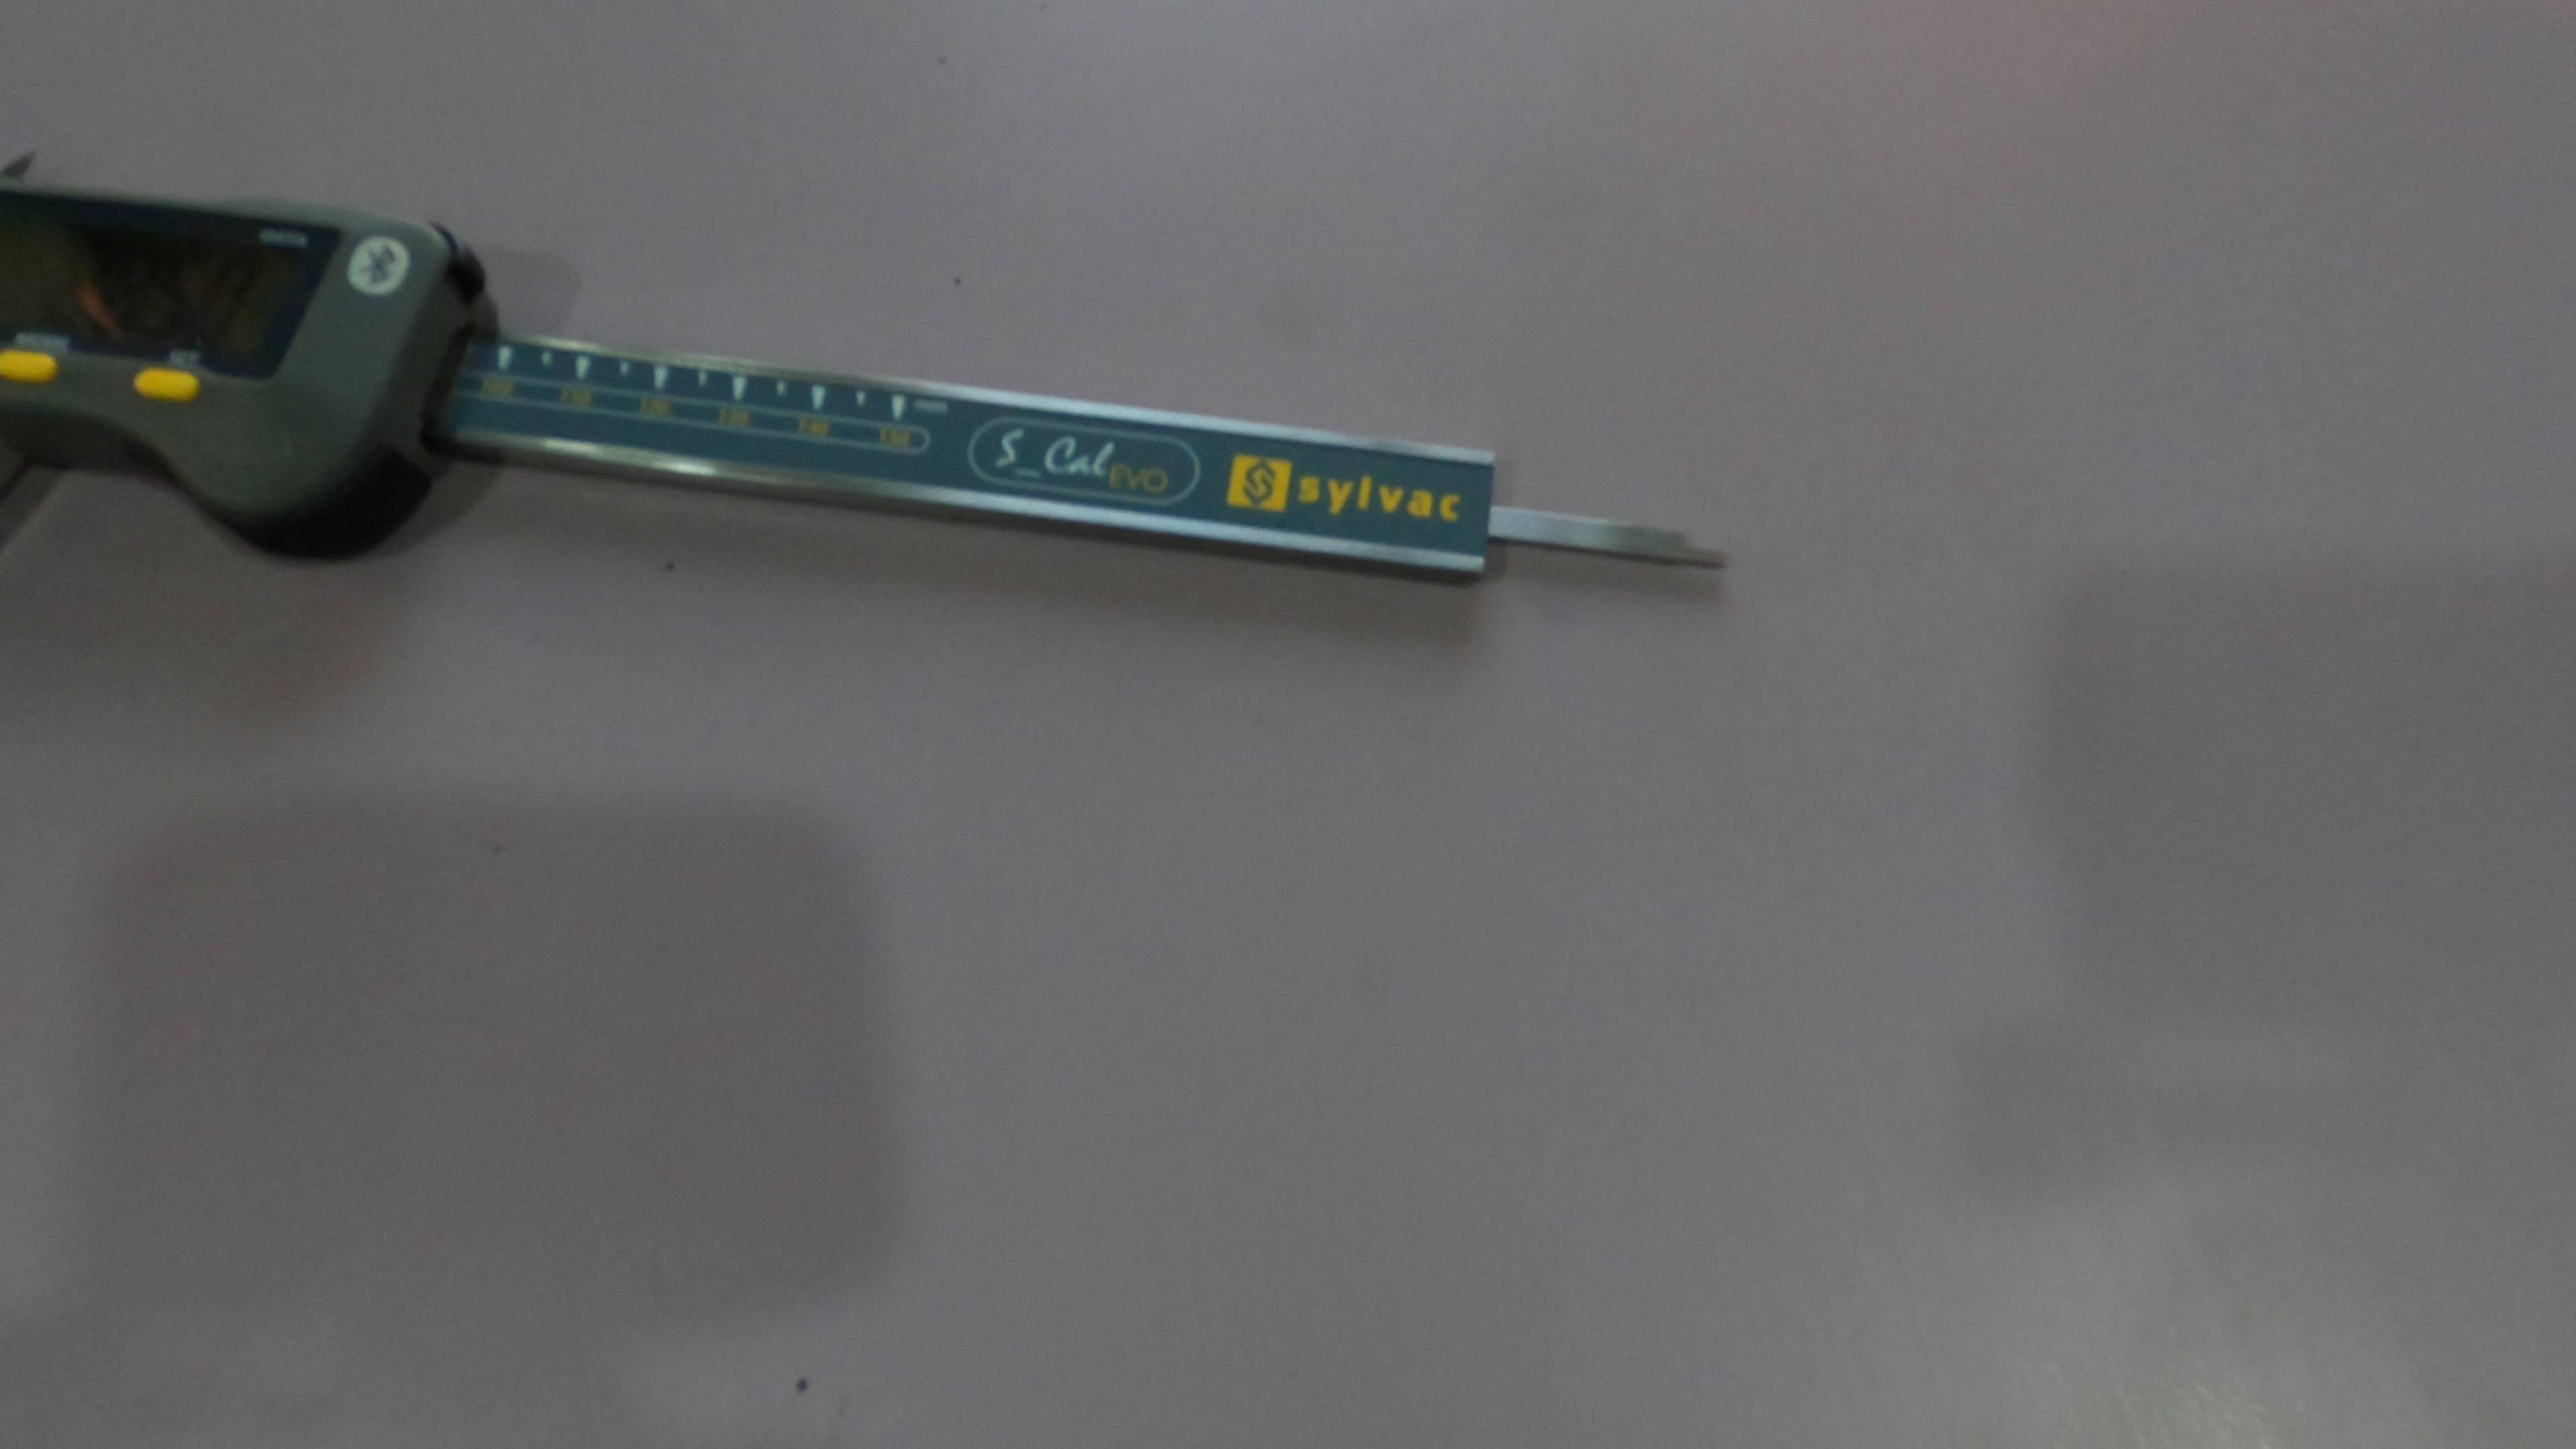vernier_caliper: (4, 138, 1744, 586)
